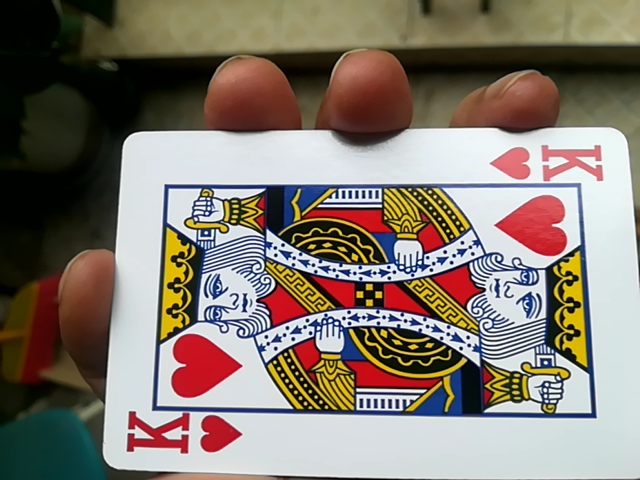hx k: (101, 128, 631, 480)
